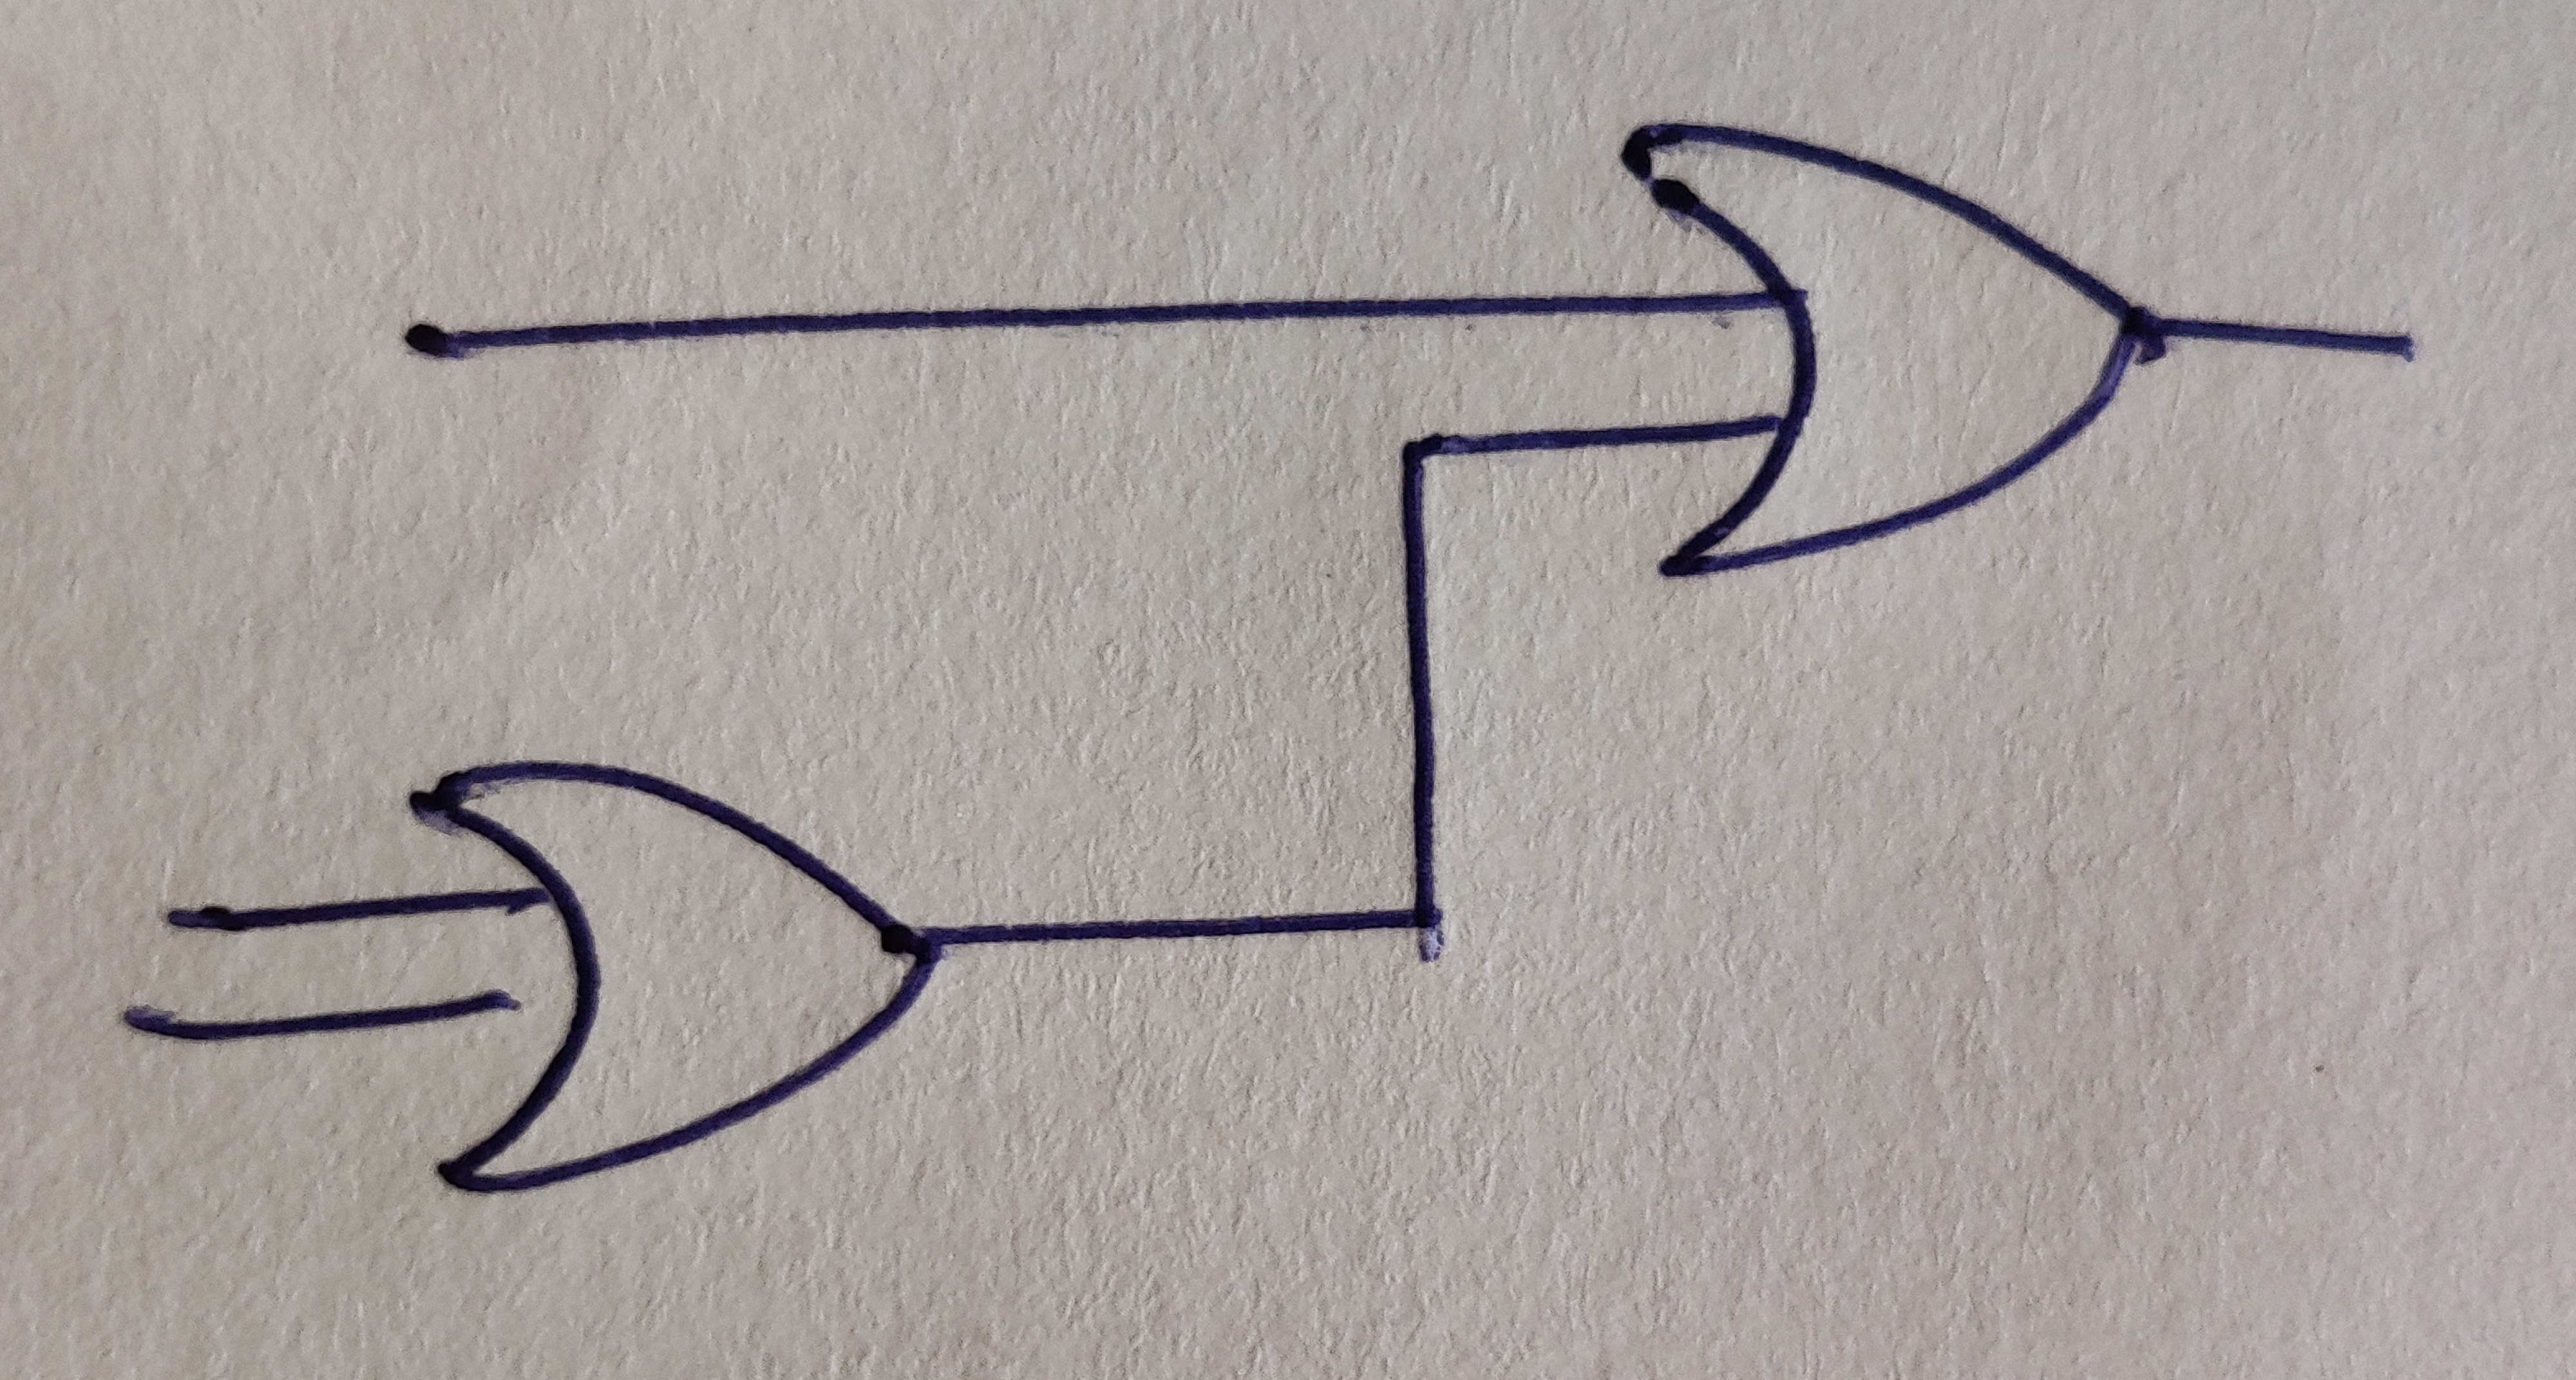or: (1620, 123, 2140, 581), (409, 760, 942, 1193)
